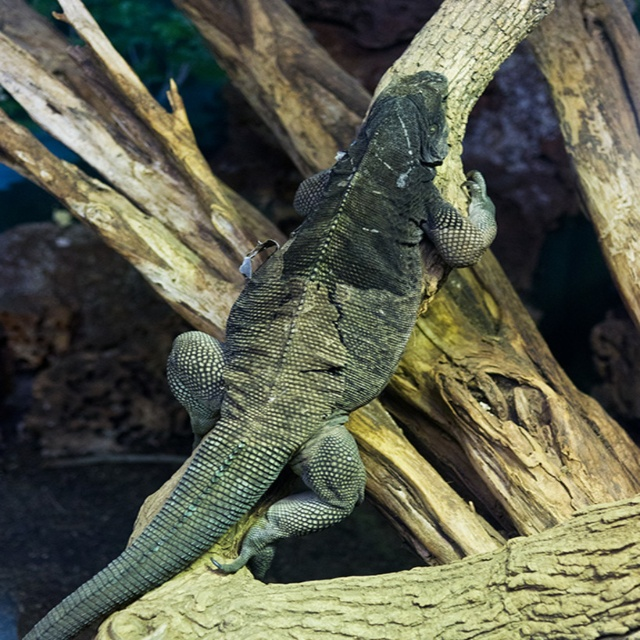Lizard: (47, 74, 524, 628)
